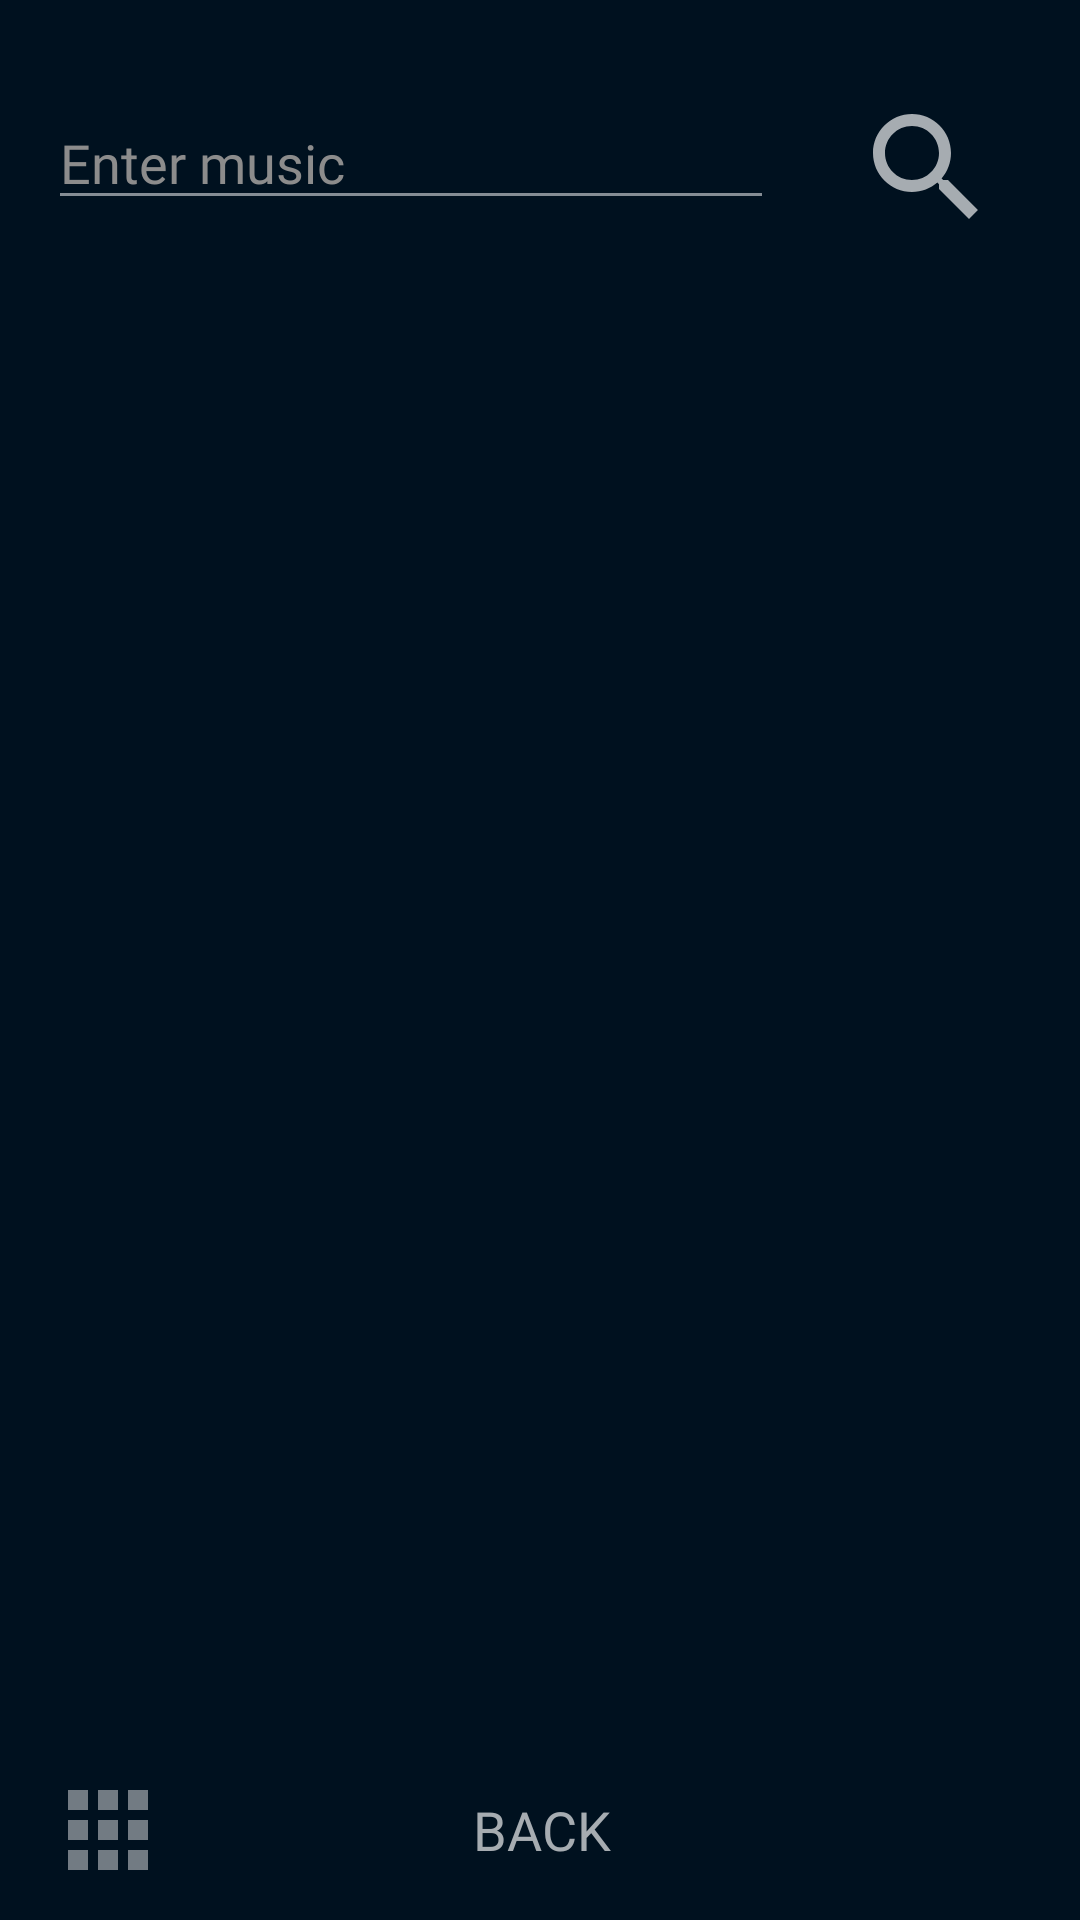

Screen size 1080 × 1920. Icon name, then its box in pixels as {"left": x1, "top": y1, "right": x2, "bottom": y2}:
apps: {"left": 68, "top": 1790, "right": 148, "bottom": 1870}
search: {"left": 873, "top": 114, "right": 978, "bottom": 219}
